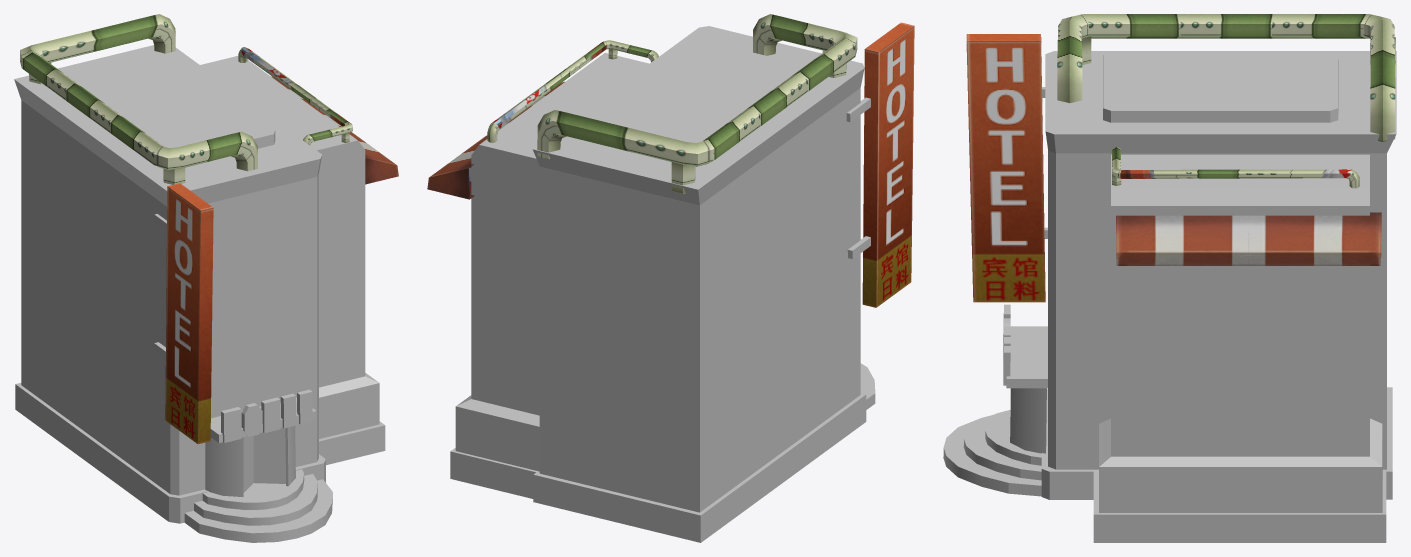
Rendered from PK_model_house_07.FBX.
3 views of the same model, side by side, from view 1: azimuth 30°, elevation 25°; view 2: azimuth 150°, elevation 25°; view 3: azimuth 270°, elevation 25° (orthographic). The views are drawn at different scales.
Visible parts, largest first — view 1: PK_model_house_07, PK_model_sign02, PK_model_waterpipe05, PK_model_waterpipe06, PK_model_sundries_01; view 2: PK_model_house_07, PK_model_sign02, PK_model_waterpipe05, PK_model_waterpipe06, PK_model_sundries_01; view 3: PK_model_house_07, PK_model_sign02, PK_model_sundries_01, PK_model_waterpipe05, PK_model_waterpipe06.
Boxes of the visible parts, <box> form: PK_model_house_07: <box>14,45,385,542</box>; PK_model_sign02: <box>165,183,213,444</box>; PK_model_waterpipe05: <box>20,14,257,184</box>; PK_model_waterpipe06: <box>238,47,352,145</box>; PK_model_sundries_01: <box>271,76,398,184</box>; PK_model_house_07: <box>450,26,875,542</box>; PK_model_sign02: <box>862,22,914,307</box>; PK_model_waterpipe05: <box>537,14,857,193</box>; PK_model_waterpipe06: <box>487,40,658,142</box>; PK_model_sundries_01: <box>427,81,564,199</box>; PK_model_house_07: <box>943,51,1396,542</box>; PK_model_sign02: <box>966,34,1045,302</box>; PK_model_sundries_01: <box>1116,212,1381,265</box>; PK_model_waterpipe05: <box>1057,14,1395,141</box>; PK_model_waterpipe06: <box>1112,146,1359,188</box>.
Size of the model in its own units: 1000 by 1313 by 1333.
